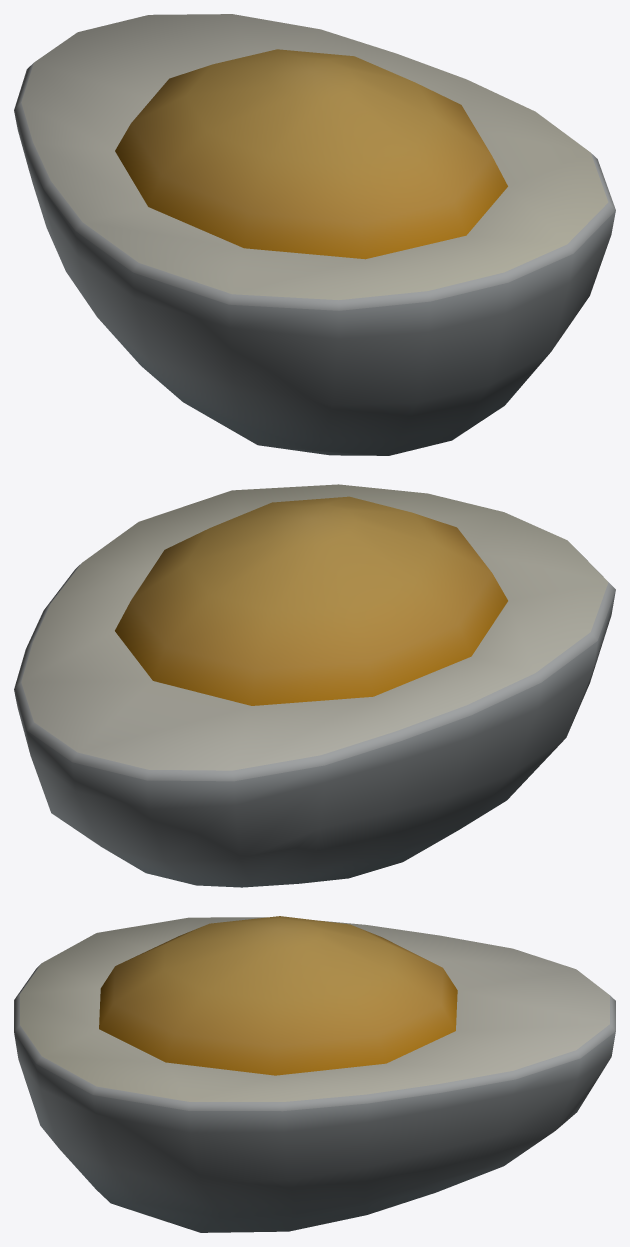
Rendered from Egg_003.glb.
3 renders of one model, top to bottom at view 1: azimuth 30°, elevation 25°; view 2: azimuth 150°, elevation 25°; view 3: azimuth 270°, elevation 25°, orthographic. The views are drawn at different scales.
Parts seen in each view (by area): view 1: geometry_0; view 2: geometry_0; view 3: geometry_0.
Part boxes in pixels (left/top/right/bottom): geometry_0: left=14, top=14, right=615, bottom=455; geometry_0: left=14, top=484, right=615, bottom=887; geometry_0: left=14, top=916, right=615, bottom=1232.
Bounding box in the file's own units: 0.0634 × 0.0438 × 0.0849.
Materials: 1 (1 with a texture image).
